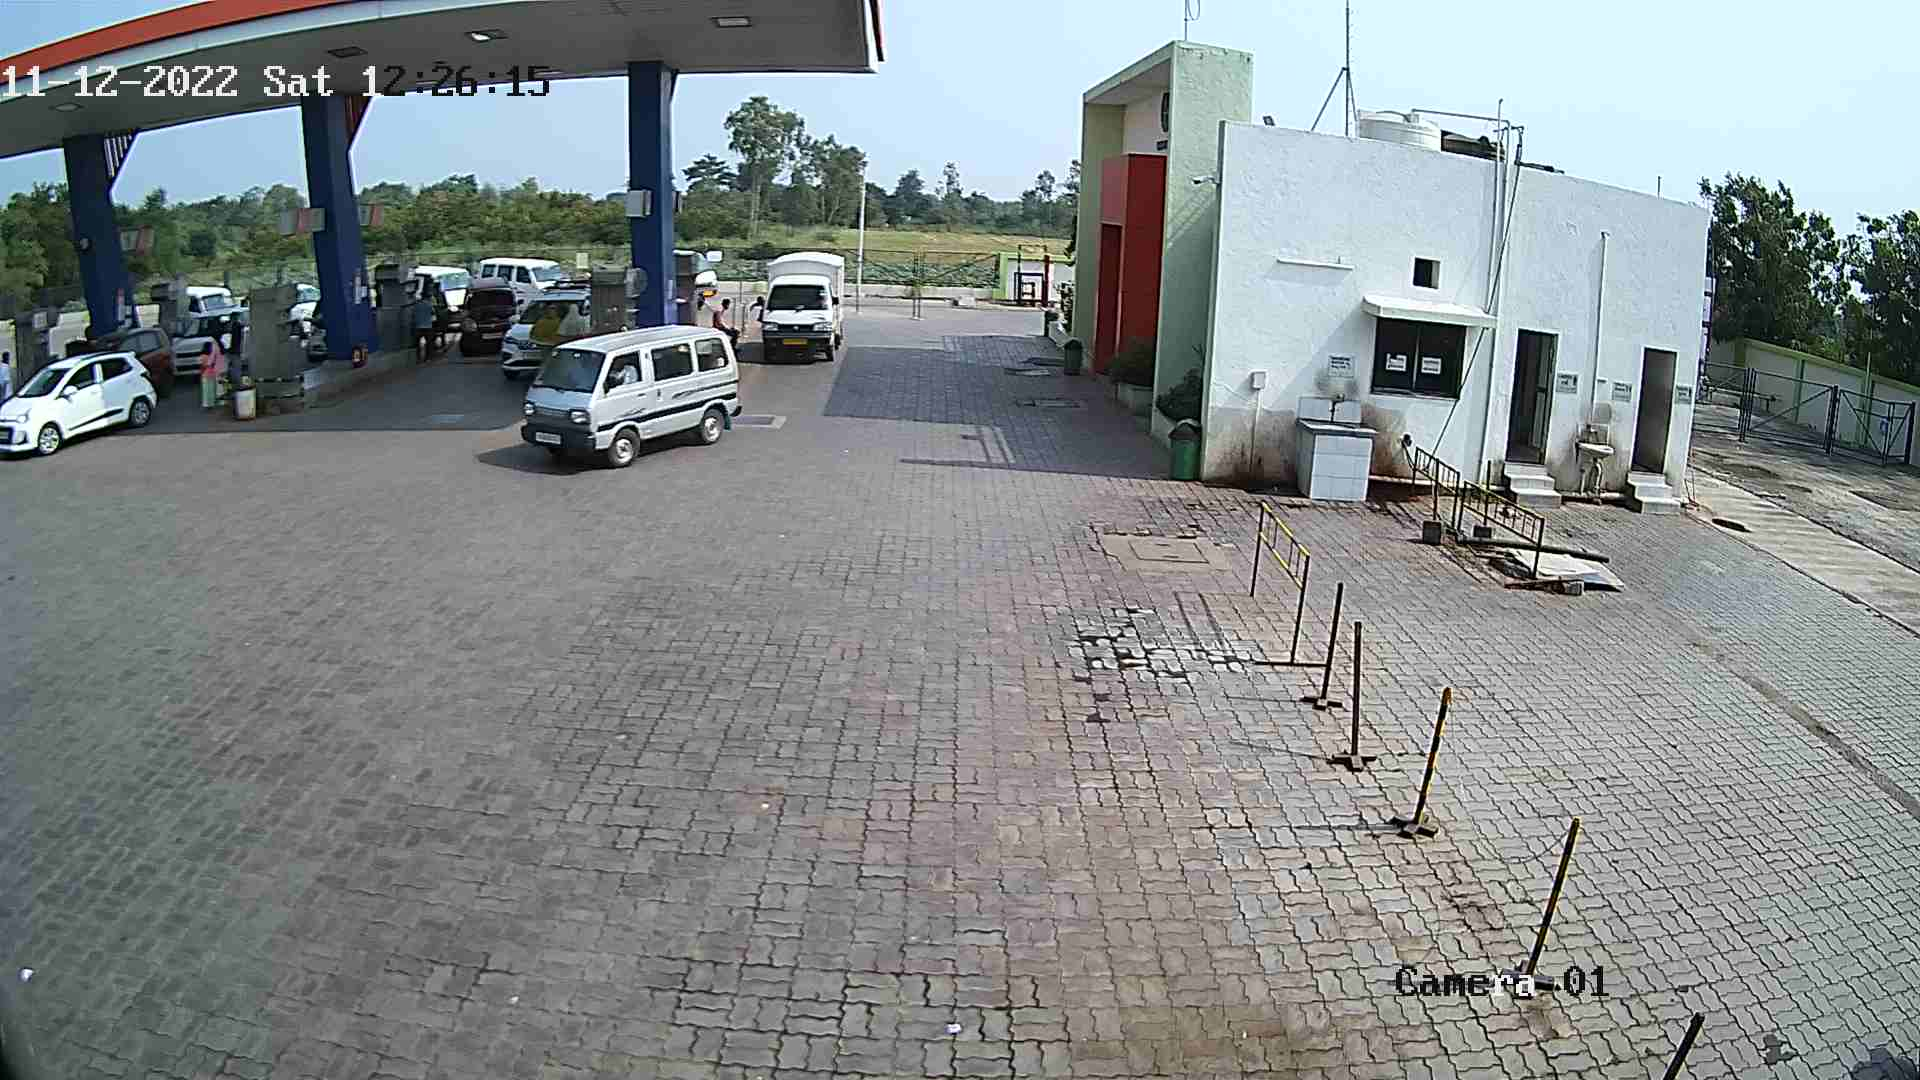Car: (510, 320, 750, 476), (1, 345, 166, 462), (495, 257, 608, 389), (737, 244, 857, 364), (61, 320, 181, 404), (166, 297, 249, 384), (472, 251, 571, 320), (450, 266, 525, 357), (177, 278, 257, 351), (405, 252, 471, 334), (675, 236, 727, 314)
